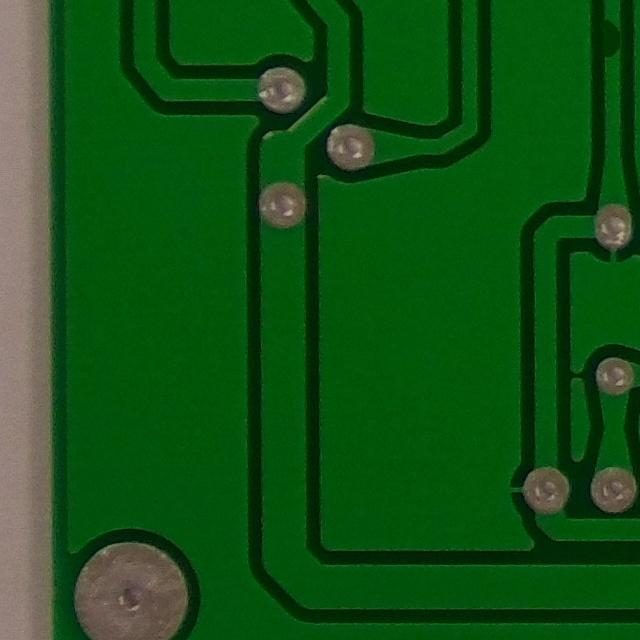mouse_bite: (589, 14, 627, 73)
